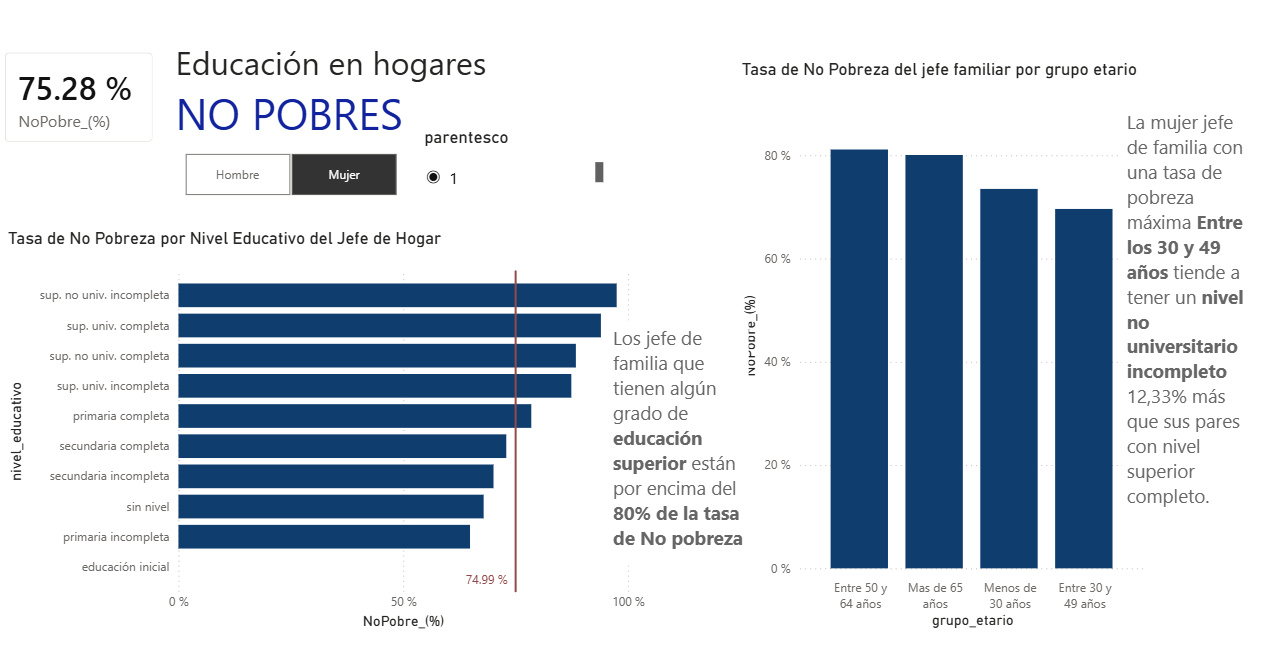

The page's visual inventory and layout, read from the dashboard file:
{"tool":"powerbi","page":{"name":"No pobreza del Jefe del Hogar","canvas":[1280,720],"ordinal":2},"visuals":[{"type":"textbox","box":[186.7,46.7,383.1,123.2],"z":0},{"type":"cardVisual","fields":{"Data":["ENAHO.NoPobre_(%)"]},"box":[5,47.3,181.6,123.2],"z":1000},{"type":"clusteredBarChart","title":"Tasa de No Pobreza por Nivel Educativo del Jefe de Hogar","fields":{"Category":["ENAHO.nivel_educativo"],"Y":["ENAHO.NoPobre_(%)"]},"box":[20,238.6,644.3,404.3],"z":2000},{"type":"slicer","fields":{"Values":["ENAHO.sexo_jefe"]},"box":[175,158.3,260,55],"z":3000},{"type":"clusteredColumnChart","title":"Tasa de No Pobreza del jefe familiar por grupo etario","fields":{"Category":["ENAHO.grupo_etario"],"Y":["ENAHO.NoPobre_(%)"]},"box":[750,71.4,411.4,571.4],"z":4000},{"type":"listSlicer","fields":{"Values":["ENAHO.parentesco"]},"box":[434.7,138.6,188.6,74.9],"z":5000},{"type":"textbox","box":[621.4,331.4,140,244.3],"z":6000},{"type":"textbox","box":[1132.9,115.7,135.7,417.1],"z":7000}]}

Visuals, with their boxes on the page's 1280x720 design canvas (x1, y1, x2, y2). These are canvas units, not pixel positions in the 1263x653 screenshot, which may show the page scaled, cropped or inside an application window:
textbox: 187 47 570 170
cardVisual - ENAHO.NoPobre_(%): 5 47 187 170
"Tasa de No Pobreza por Nivel Educativo del Jefe de Hogar" clusteredBarChart: 20 239 664 643
slicer - ENAHO.sexo_jefe: 175 158 435 213
"Tasa de No Pobreza del jefe familiar por grupo etario" clusteredColumnChart: 750 71 1161 643
listSlicer - ENAHO.parentesco: 435 139 623 214
textbox: 621 331 761 576
textbox: 1133 116 1269 533
